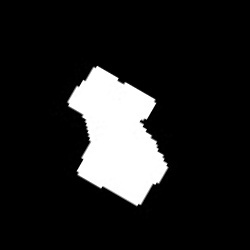spot: (68, 67, 169, 205)
